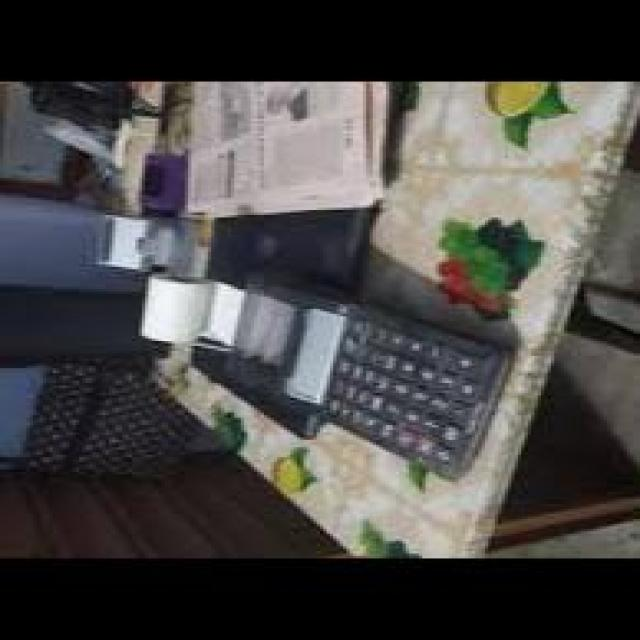Calculator: (206, 266, 523, 488)
